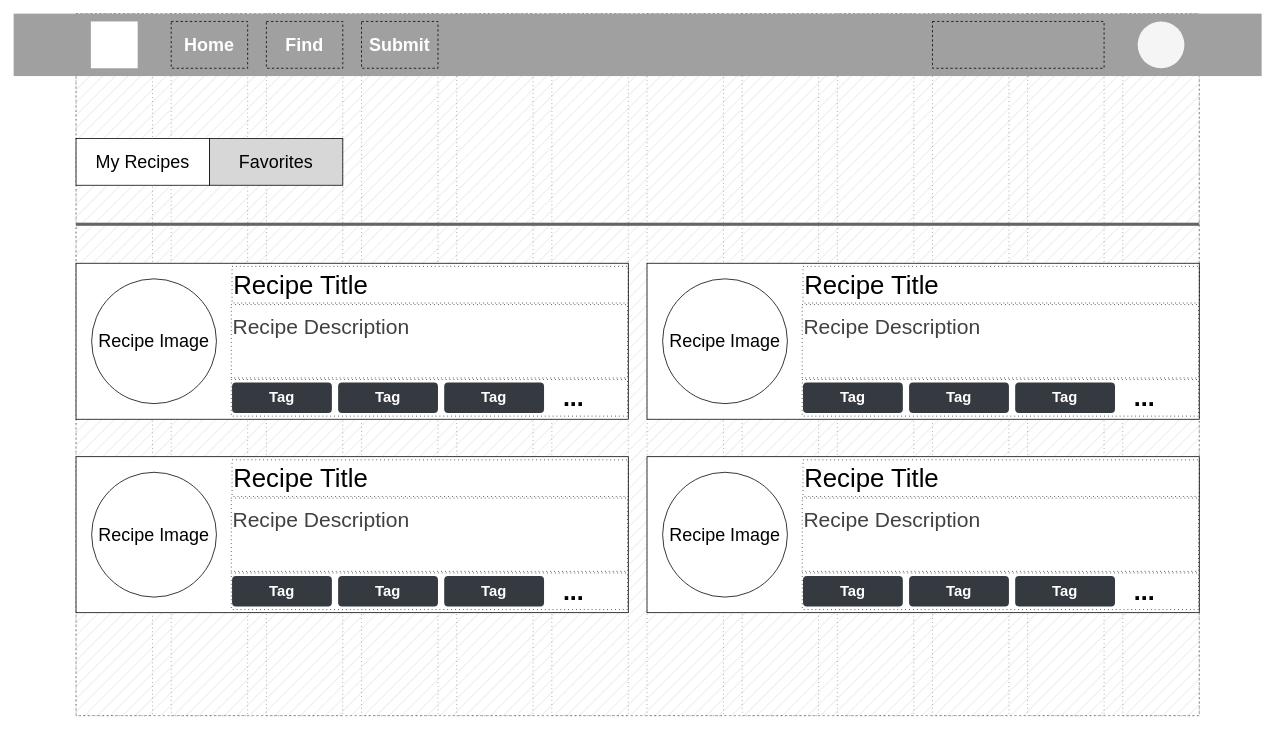
Image size: 1275x729. Some labels were removed from this diagram. The centre of each missing label's shape, as x and y in pixels:
"Icon" belongs at (x=113, y=44).
"User Icon" belongs at (x=1160, y=44).
"Welcome, Username" belongs at (x=1018, y=44).
